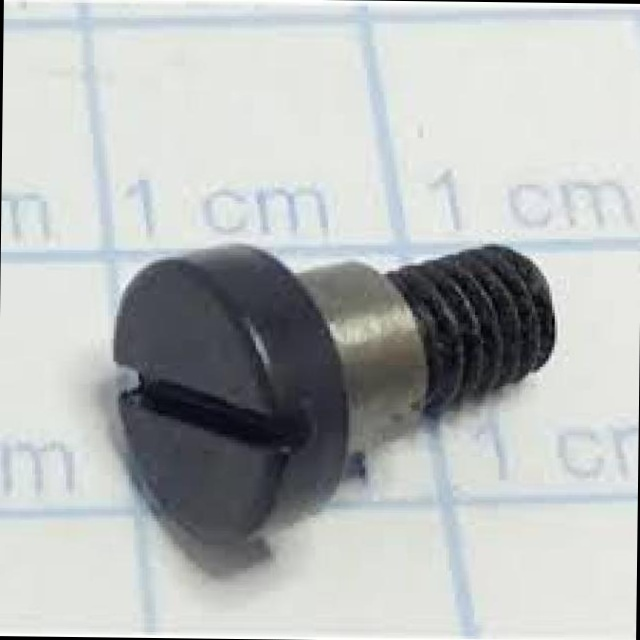duz: (108, 240, 348, 550)
